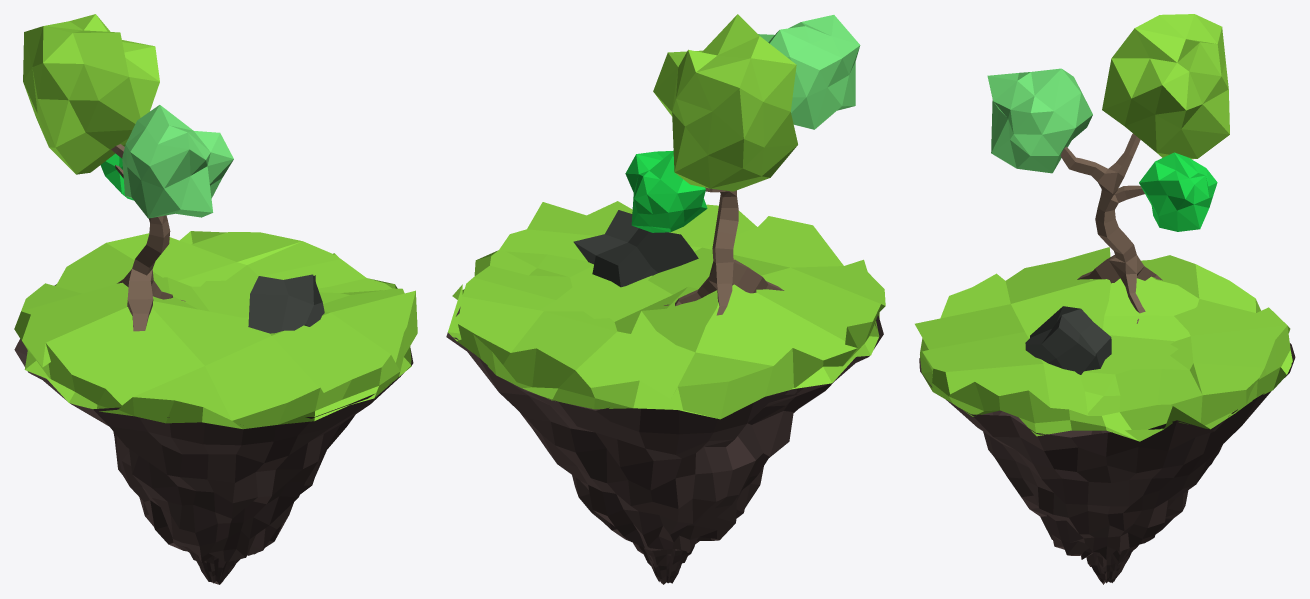
The picture shows the model from 3 angles, left to right: view 1: azimuth 30°, elevation 25°; view 2: azimuth 150°, elevation 25°; view 3: azimuth 270°, elevation 25°; orthographic projection. The views are drawn at different scales.
Visible parts, largest first — view 1: Icosphere.003; view 2: Icosphere.003; view 3: Icosphere.003.
Part boxes in pixels (x1=…): Icosphere.003: x1=14, y1=14, x2=417, y2=584; Icosphere.003: x1=446, y1=14, x2=885, y2=584; Icosphere.003: x1=915, y1=14, x2=1295, y2=584.
Size of the model in its own units: 6.19 by 9.37 by 6.23.
